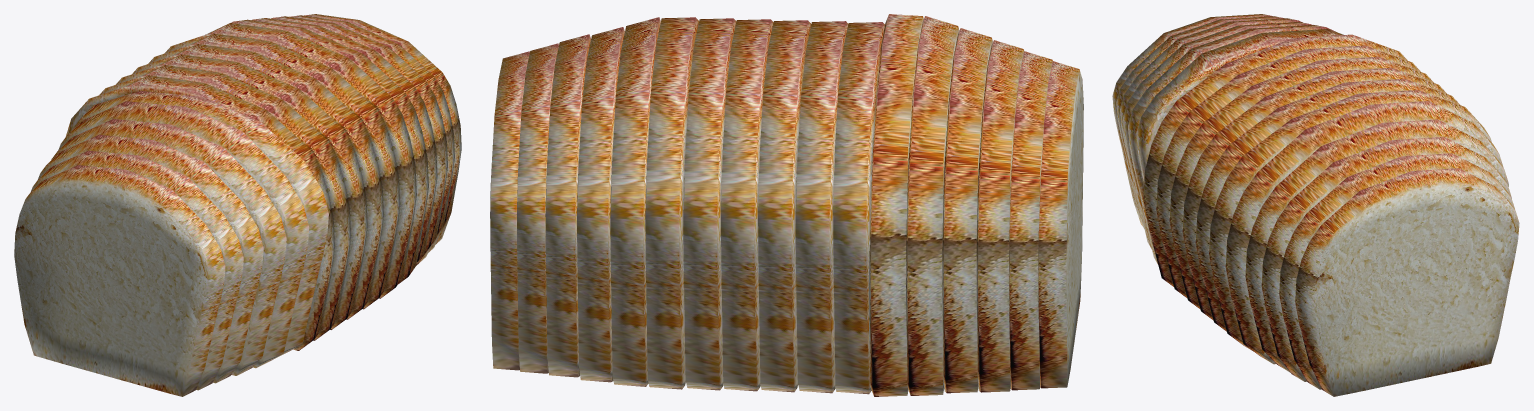
File: breadloaf.obj
The picture shows the model from 3 angles, left to right: view 1: azimuth 30°, elevation 25°; view 2: azimuth 150°, elevation 25°; view 3: azimuth 270°, elevation 25°; orthographic projection. The views are drawn at different scales.
Parts seen in each view (by area): view 1: Loaf pCube16, Loaf pCube14, Loaf pCube12, Loaf pCube13, Loaf pCube17, Loaf pCube6, Loaf pCube9, Loaf pCube7, Loaf pCube8, Loaf pCube10, Loaf pCube15, Loaf pCube11 (+5 smaller); view 2: Loaf pCube6, Loaf pCube17, Loaf pCube9, Loaf pCube7, Loaf pCube10, Loaf pCube8, Loaf pCube14, Loaf pCube11, Loaf pCube5, Loaf pCube16, Loaf pCube12, Loaf pCube4 (+5 smaller); view 3: pCube1 Loaf, Loaf pCube5, Loaf pCube4, Loaf pCube3, Loaf pCube6, Loaf pCube2, Loaf pCube10, Loaf pCube7, Loaf pCube8, Loaf pCube9, Loaf pCube11, Loaf pCube17 (+5 smaller).
Part boxes in pixels (left/top/right/bottom): Loaf pCube16: left=14, top=165, right=225, bottom=396; Loaf pCube14: left=58, top=101, right=309, bottom=368; Loaf pCube12: left=51, top=119, right=286, bottom=375; Loaf pCube13: left=38, top=134, right=263, bottom=383; Loaf pCube17: left=73, top=91, right=328, bottom=358; Loaf pCube6: left=164, top=23, right=416, bottom=298; Loaf pCube9: left=116, top=54, right=367, bottom=329; Loaf pCube7: left=148, top=33, right=400, bottom=309; Loaf pCube8: left=132, top=44, right=383, bottom=319; Loaf pCube10: left=99, top=65, right=351, bottom=340; Loaf pCube15: left=31, top=150, right=243, bottom=390; Loaf pCube11: left=65, top=75, right=334, bottom=350; Loaf pCube6: left=645, top=17, right=698, bottom=389; Loaf pCube17: left=868, top=14, right=923, bottom=396; Loaf pCube9: left=758, top=20, right=811, bottom=392; Loaf pCube7: left=683, top=18, right=736, bottom=390; Loaf pCube10: left=795, top=21, right=848, bottom=393; Loaf pCube8: left=721, top=19, right=773, bottom=391; Loaf pCube14: left=906, top=16, right=959, bottom=395; Loaf pCube11: left=833, top=22, right=884, bottom=394; Loaf pCube5: left=610, top=17, right=660, bottom=386; Loaf pCube16: left=1038, top=61, right=1083, bottom=388; Loaf pCube12: left=942, top=28, right=992, bottom=393; Loaf pCube4: left=577, top=27, right=624, bottom=382; pCube1 Loaf: left=1295, top=168, right=1519, bottom=396; Loaf pCube5: left=1225, top=101, right=1503, bottom=364; Loaf pCube4: left=1245, top=119, right=1508, bottom=372; Loaf pCube3: left=1261, top=136, right=1511, bottom=381; Loaf pCube6: left=1209, top=90, right=1491, bottom=350; Loaf pCube2: left=1279, top=153, right=1514, bottom=389; Loaf pCube10: left=1156, top=45, right=1420, bottom=298; Loaf pCube7: left=1195, top=78, right=1459, bottom=331; Loaf pCube8: left=1182, top=67, right=1446, bottom=320; Loaf pCube9: left=1169, top=56, right=1433, bottom=309; Loaf pCube11: left=1143, top=34, right=1407, bottom=286; Loaf pCube17: left=1136, top=29, right=1343, bottom=182.
Size of the model in its own units: 23.73 by 11.73 by 19.03.
Materials: 1 (1 with a texture image).
